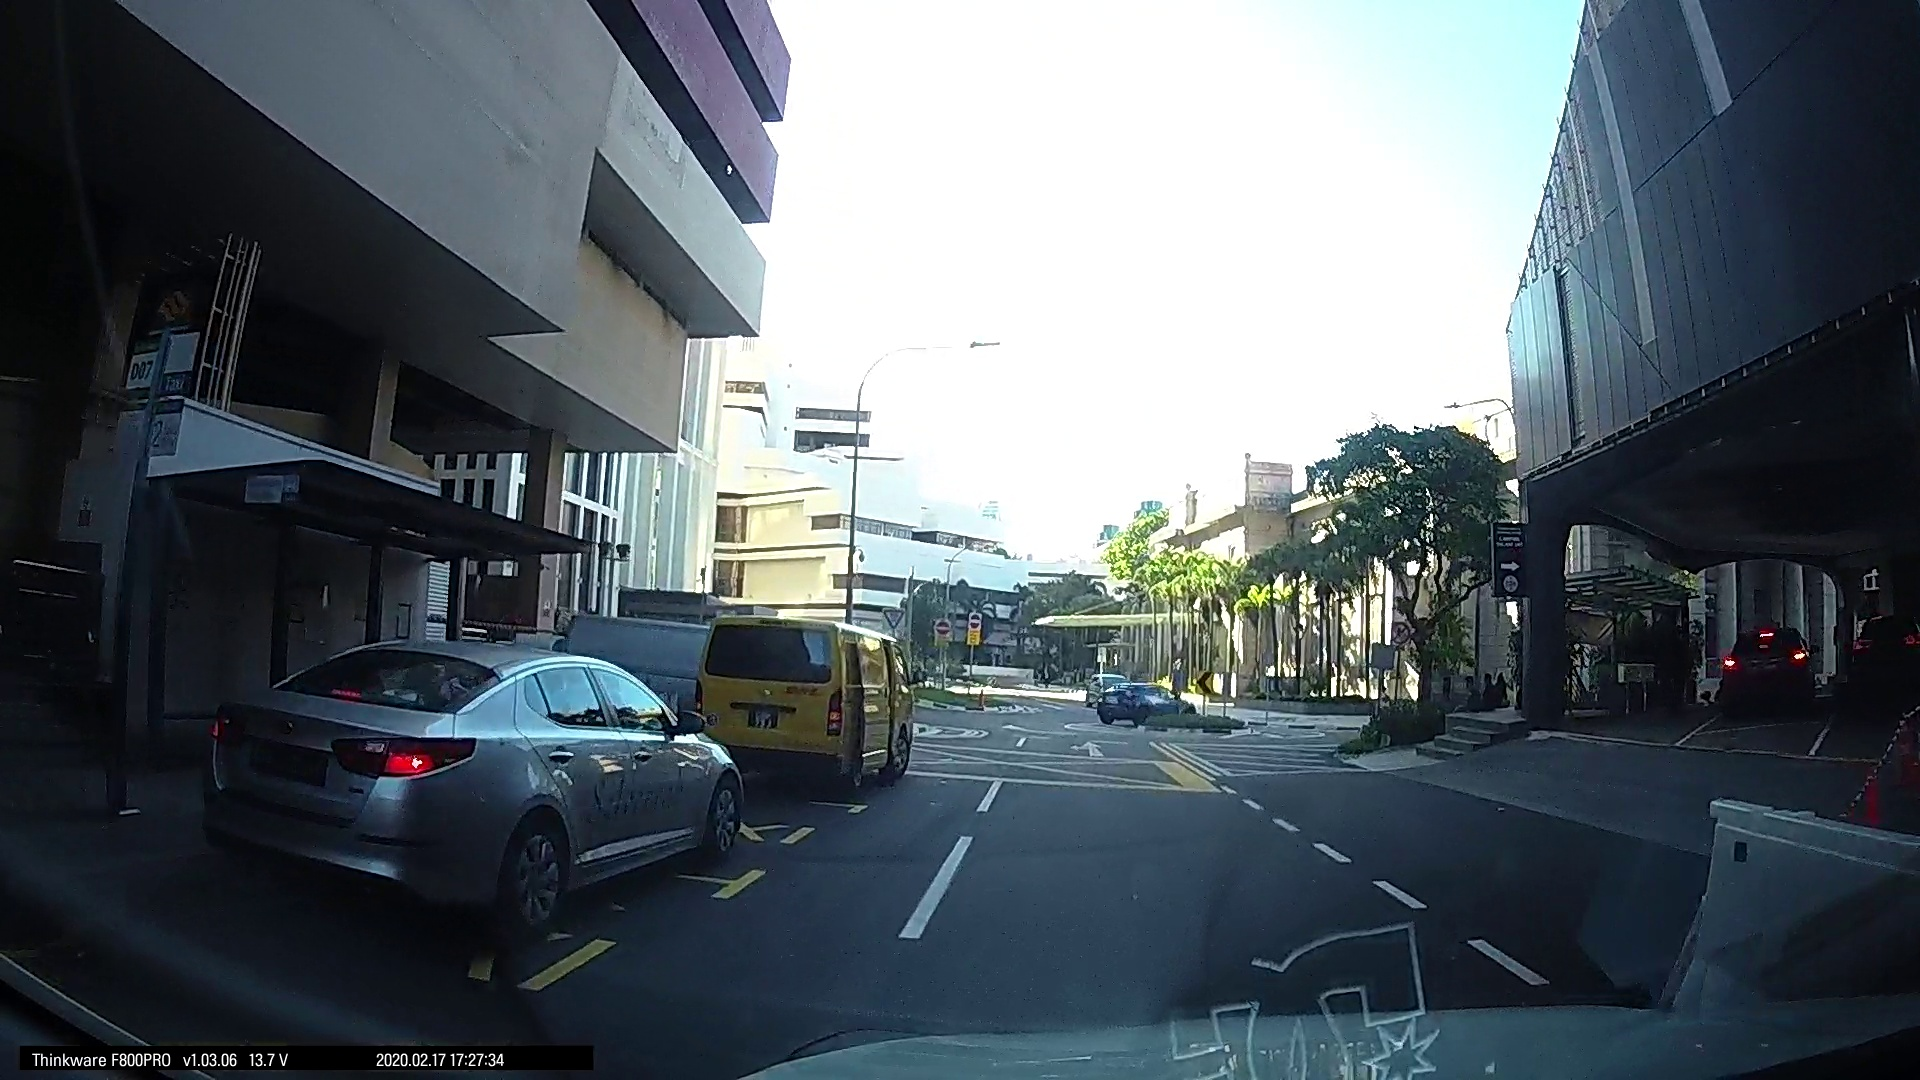Heavy Vehicle: (11, 388, 530, 944)
Light Vehicle: (1780, 692, 1905, 787), (1211, 638, 1304, 731), (920, 644, 980, 696)
